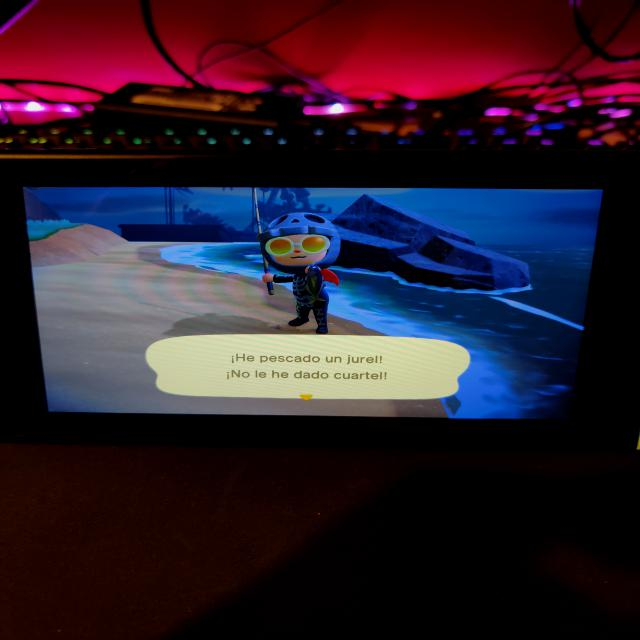text_bubble: (143, 333, 474, 403)
